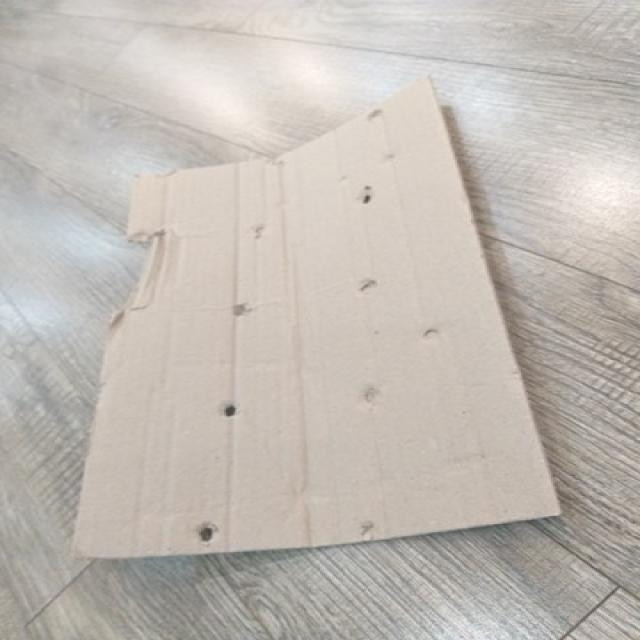PaperCardboard: (71, 71, 567, 566)
